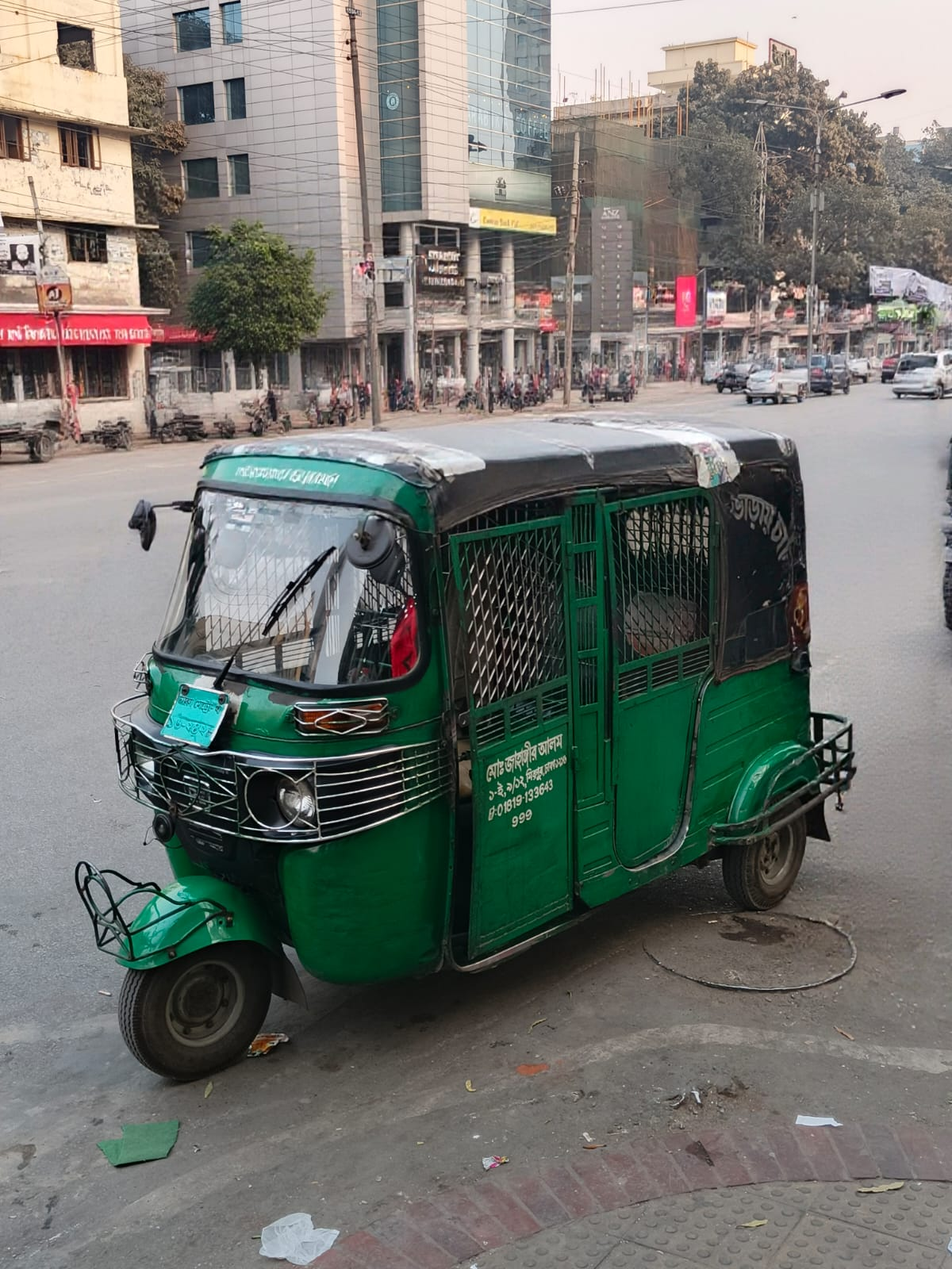cng: (79, 402, 896, 1091)
